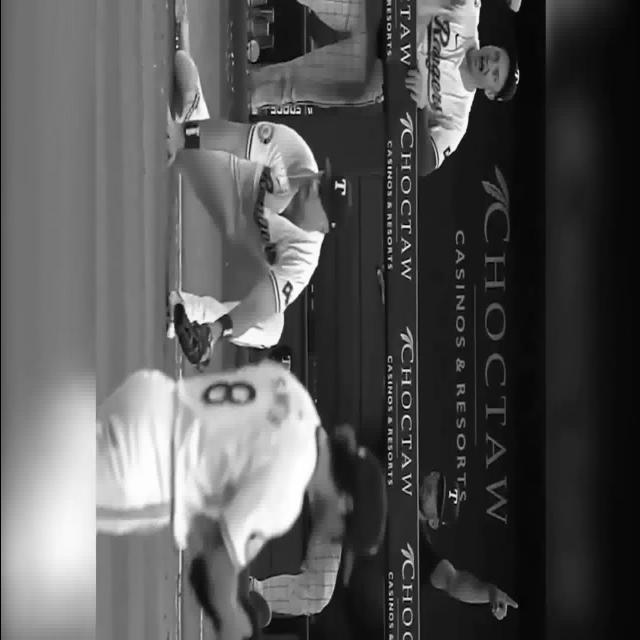base: (174, 0, 189, 51)
baseball_glove: (172, 305, 212, 371)
shoe: (172, 49, 209, 122)
